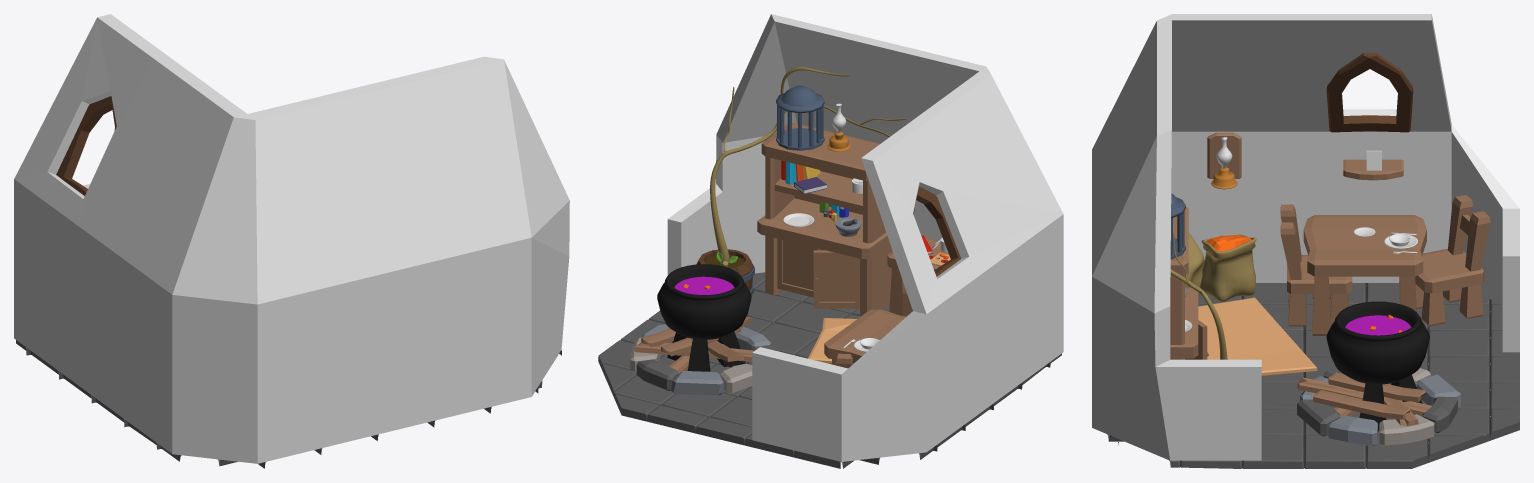
The model's file is WitchHut.fbx.
The picture shows the model from 3 angles, left to right: view 1: azimuth 30°, elevation 25°; view 2: azimuth 150°, elevation 25°; view 3: azimuth 270°, elevation 25°; orthographic projection. The views are drawn at different scales.
Visible parts, largest first — view 1: Walls, Window, SlabFloor; view 2: Walls, Buffet, SlabFloor, Cauldron, Bricks, Cage, Planks, Table, Tree, Window, Books_01, Bench (+3 smaller); view 3: Walls, SlabFloor, Table, Cauldron, Chair_02, Bricks, Carpet, Window, Planks, Chair_01, Sack_Open, Buffet (+6 smaller).
Part boxes in pixels (left/top/right/bottom): Walls: left=14, top=14, right=569, bottom=463; Window: left=56, top=96, right=116, bottom=195; SlabFloor: left=16, top=340, right=561, bottom=468; Walls: left=667, top=14, right=1063, bottom=461; Buffet: left=757, top=123, right=892, bottom=316; SlabFloor: left=598, top=272, right=1061, bottom=468; Cauldron: left=657, top=264, right=751, bottom=371; Bricks: left=630, top=324, right=779, bottom=395; Cage: left=776, top=85, right=824, bottom=150; Planks: left=634, top=317, right=754, bottom=373; Table: left=824, top=309, right=906, bottom=365; Tree: left=710, top=67, right=908, bottom=267; Window: left=913, top=186, right=961, bottom=276; Books_01: left=781, top=160, right=826, bottom=194; Bench: left=887, top=237, right=948, bottom=315; Walls: left=1092, top=14, right=1519, bottom=460; SlabFloor: left=1105, top=283, right=1519, bottom=468; Table: left=1303, top=215, right=1426, bottom=335; Cauldron: left=1326, top=301, right=1429, bottom=431; Chair_02: left=1415, top=195, right=1490, bottom=327; Bricks: left=1297, top=368, right=1460, bottom=446; Carpet: left=1198, top=297, right=1317, bottom=375; Window: left=1326, top=53, right=1413, bottom=132; Planks: left=1297, top=372, right=1431, bottom=426; Chair_01: left=1280, top=204, right=1352, bottom=328; Sack_Open: left=1200, top=234, right=1256, bottom=301; Buffet: left=1170, top=207, right=1208, bottom=359.
Size of the model in its own units: 766 by 584 by 747.
